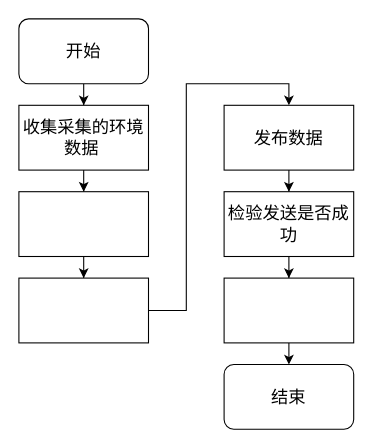
The diagram is 373 pixels wide and 448 high, and some of its shapes have lost their labels. The box of each missing label's shape, as (x1, y1, x2, y2) in pixels:
使用数据控制设备: (18, 191, 148, 256)
向数据库插入数据: (223, 277, 354, 343)
数据组合: (18, 277, 148, 343)
